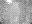person: (6, 0, 13, 4)
